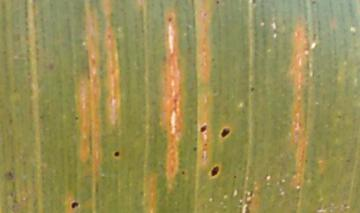tarspot: (206, 163, 221, 180), (219, 126, 231, 140), (4, 168, 15, 182), (70, 200, 80, 210), (199, 124, 208, 134), (248, 86, 258, 93), (113, 150, 120, 158), (201, 11, 210, 17), (73, 114, 80, 121), (232, 174, 239, 181), (210, 56, 216, 63), (250, 1, 258, 6), (167, 16, 173, 22), (202, 142, 208, 148), (191, 146, 198, 151), (180, 169, 185, 176), (215, 1, 221, 6), (311, 1, 316, 5)
